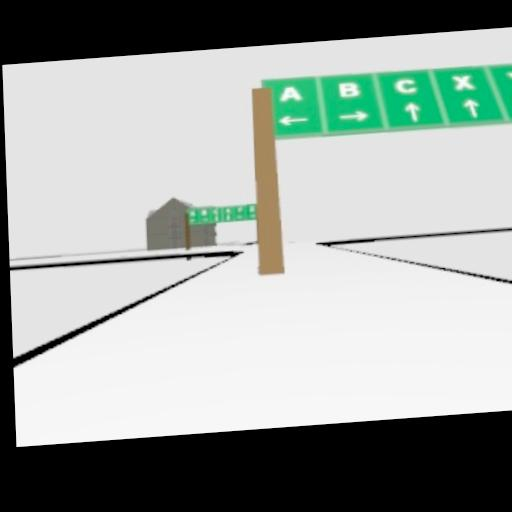A: (279, 85, 301, 101)
B: (337, 81, 361, 98)
C: (392, 77, 416, 94)
Left: (278, 114, 309, 126)
Right: (338, 110, 369, 123)
Straight: (461, 97, 481, 120), (404, 101, 421, 123)
X: (451, 72, 473, 90)
